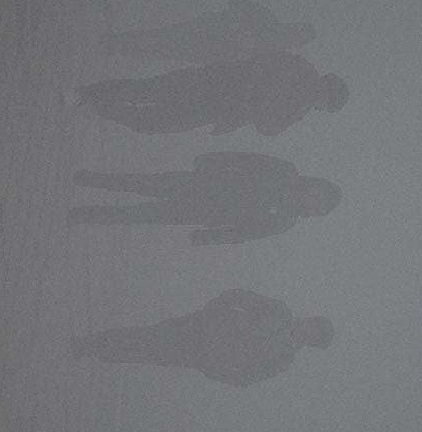person: (66, 150, 345, 247), (68, 287, 337, 386), (78, 49, 348, 140), (99, 3, 318, 63)
